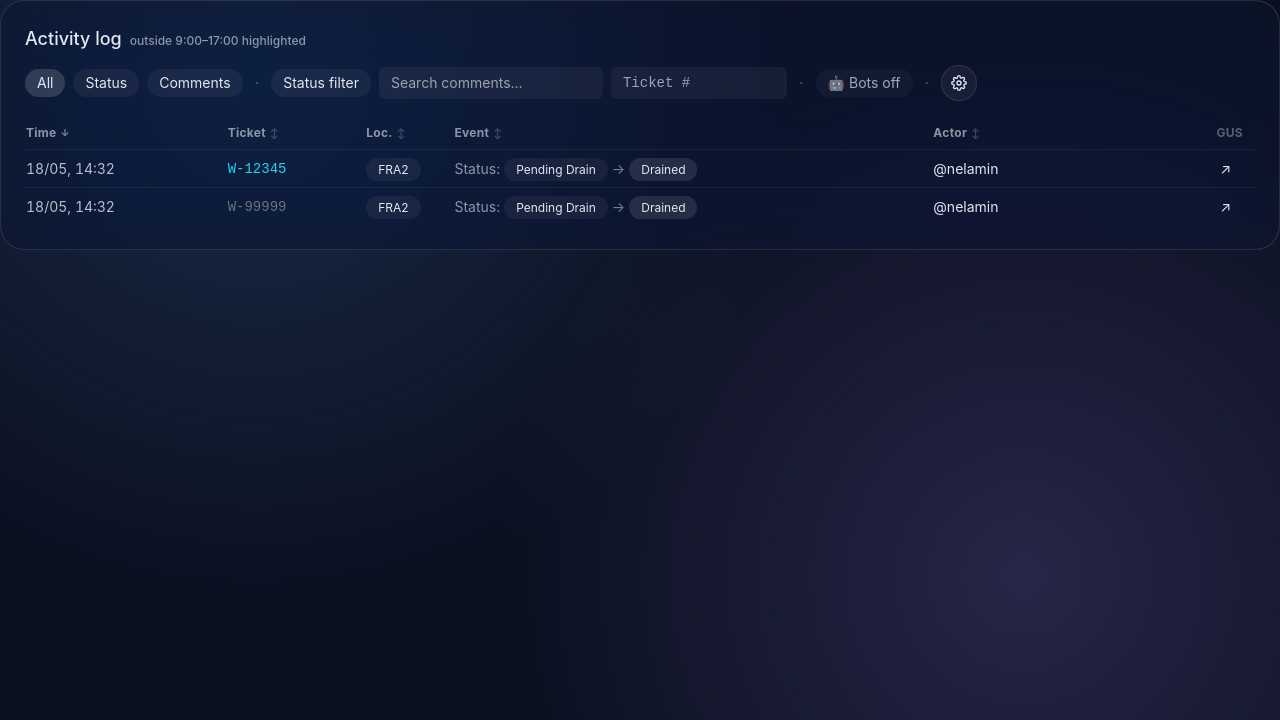
ActivityLog › filters events by status when a status pill is selected
Expected: the text "W-12345" is shown, left=228, top=161, right=286, bottom=177
Expected: the text "W-99999" is shown, left=228, top=199, right=286, bottom=215
# Open the status menu and pick Drained.
Click the button "Status filter" at (321, 83), box left=271, top=69, right=371, bottom=97
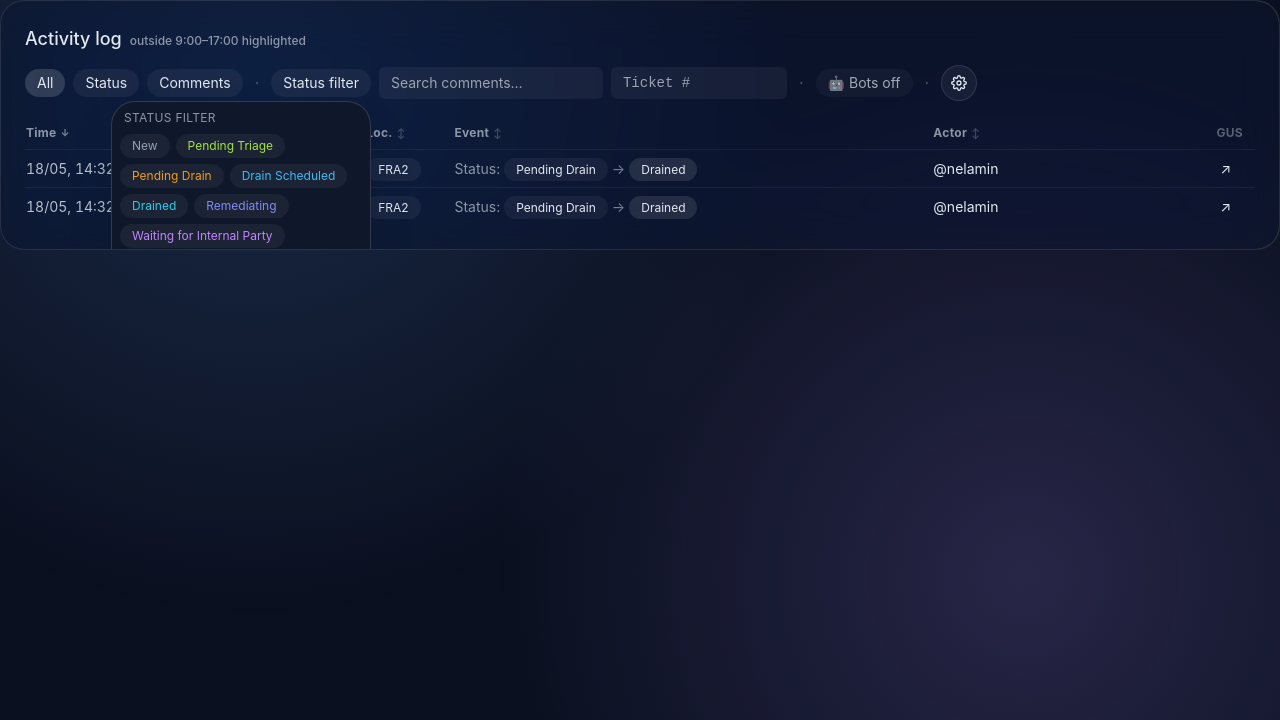
Click the button "Drained" at (154, 206), box left=120, top=194, right=188, bottom=218
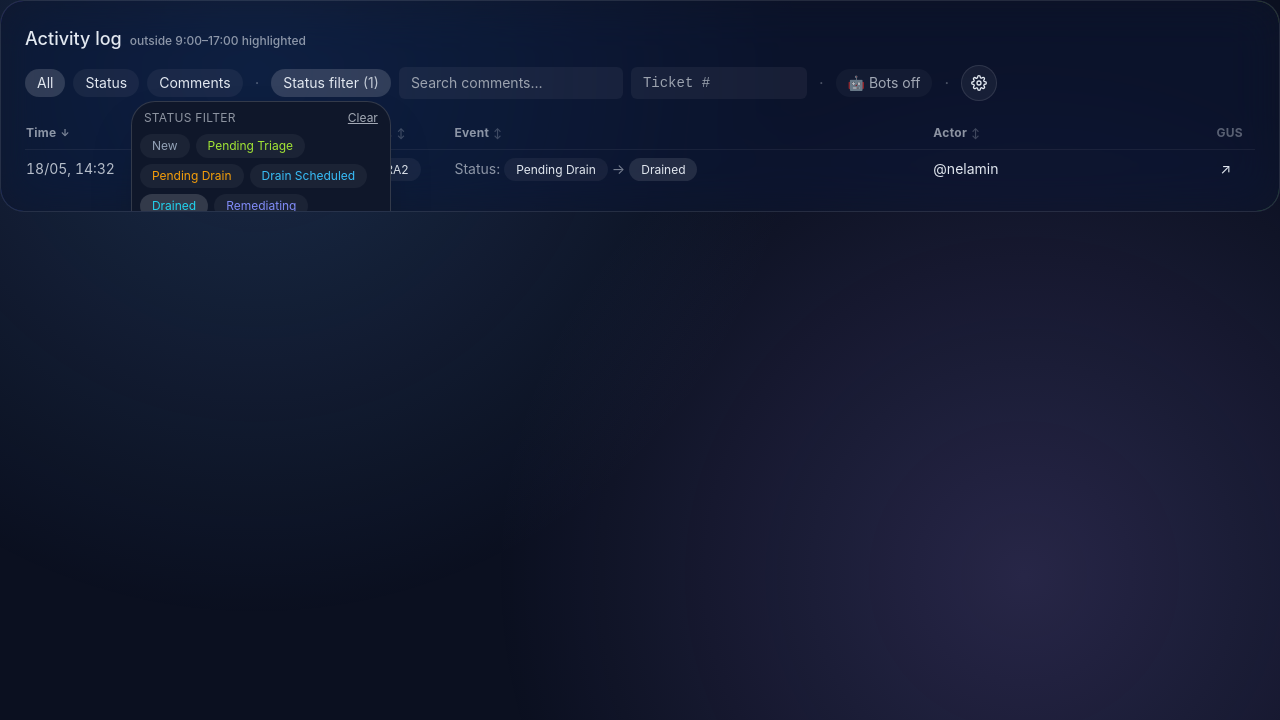
Expected: the text "W-12345" is shown, left=228, top=161, right=286, bottom=177
Now the text "W-99999" is gone
